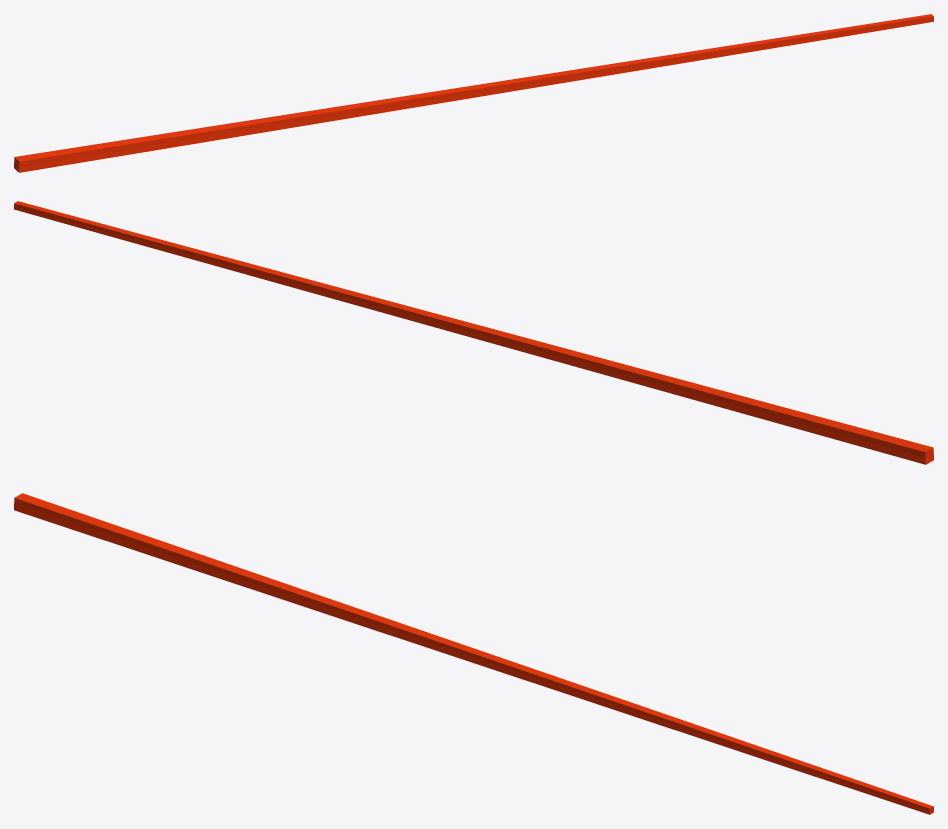
Rendered from Event_421556567_EErechit_26.fbx.
3 renders of one model, top to bottom at view 1: azimuth 30°, elevation 25°; view 2: azimuth 150°, elevation 25°; view 3: azimuth 330°, elevation 25°, orthographic. The views are drawn at different scales.
Parts seen in each view (by area): view 1: Model; view 2: Model; view 3: Model.
Boxes of the visible parts, x1,y1,x2,y2 form: Model: (14, 14, 933, 172); Model: (14, 201, 933, 464); Model: (14, 493, 933, 814).
Bounding box in the file's own units: 12.09 × 0.4554 × 1.37.
